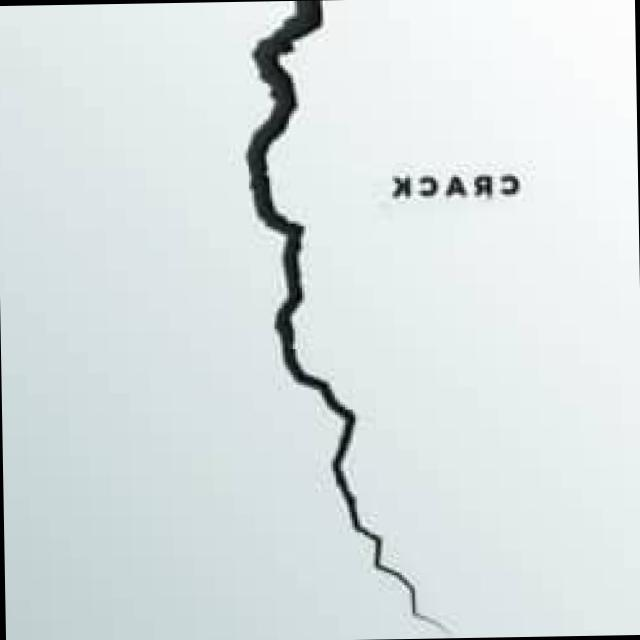crack: (243, 0, 453, 638)
